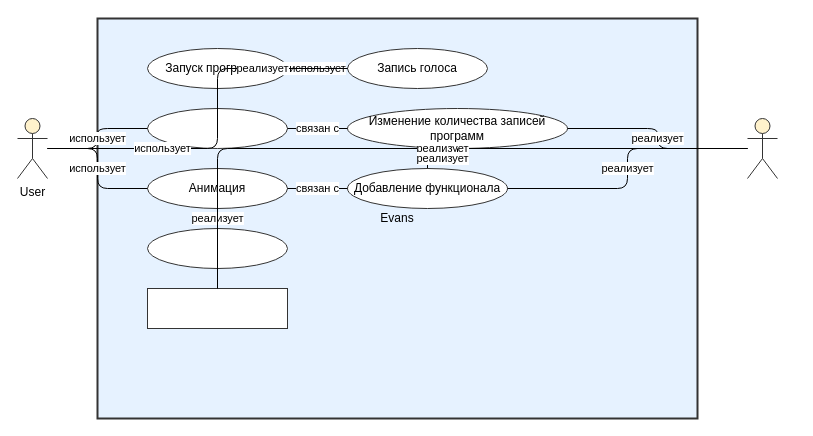
Some shapes in this 813 by 436 pixel diagram are drawn without their labels. Here are the shapes that lost their labels. From the top down, the box of each, then its label:
(146, 108, 288, 148): Самонастройка голоса
(746, 118, 778, 178): Programmer
(146, 228, 288, 268): Вход в систему
(146, 288, 288, 328): Call + ID
